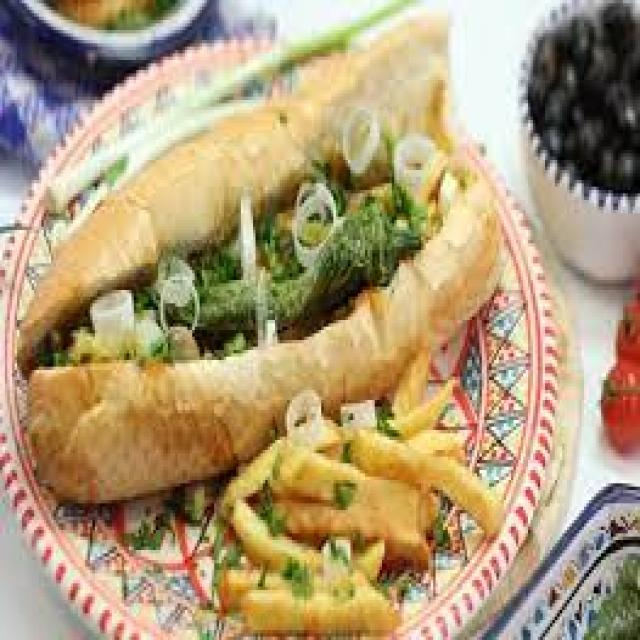Sandwitch tounsi: (35, 101, 456, 476)
